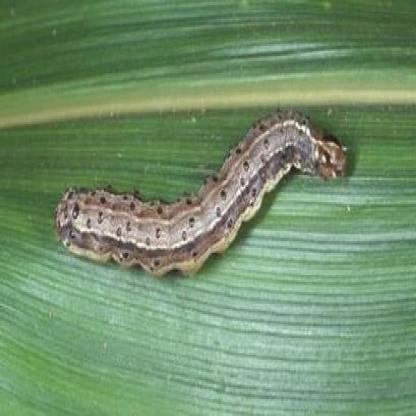armyworm: (49, 103, 348, 276)
